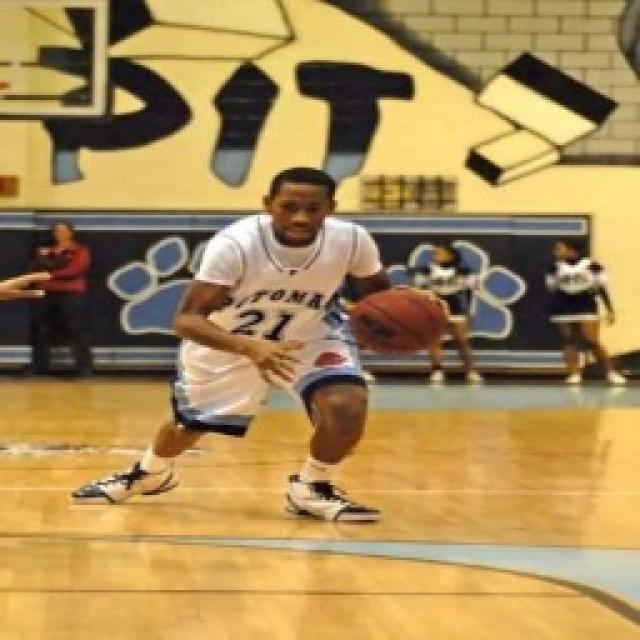basketball: (343, 286, 450, 360)
